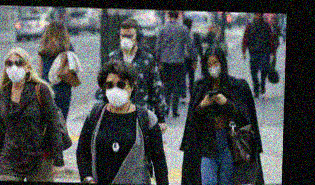with_mask: (102, 78, 129, 108), (117, 31, 135, 52), (204, 59, 221, 79)
